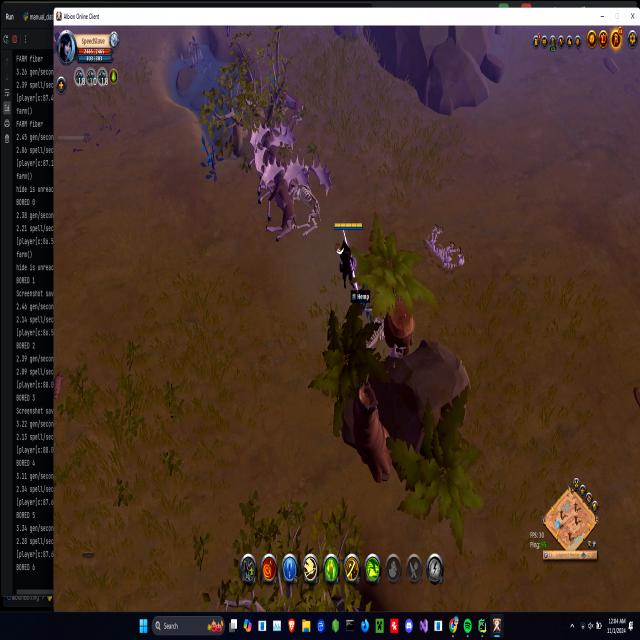mob: (258, 124, 293, 243)
red: (333, 219, 362, 288)
